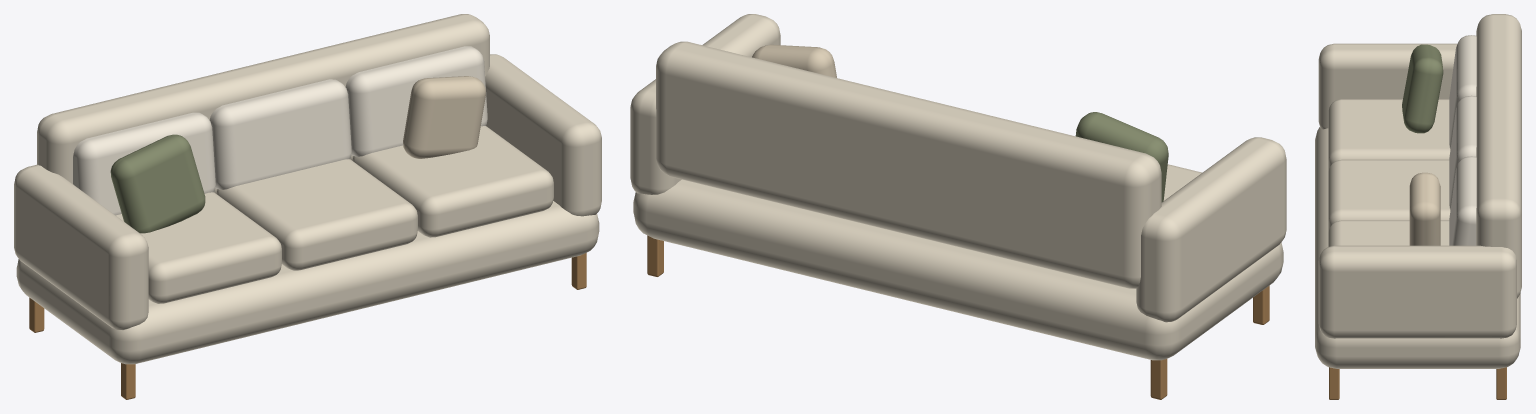
3 views of the same model, side by side, from view 1: azimuth 30°, elevation 25°; view 2: azimuth 150°, elevation 25°; view 3: azimuth 270°, elevation 25° (orthographic). The views are drawn at different scales.
Visible parts, largest first — view 1: Seat cushion (×3), Sofa upholstered base, Rounded arm (×2), Back cushion (×3), Soft back, Sage cushion, Woven cushion, Tapered leg (×2); view 2: Soft back, Sofa upholstered base, Rounded arm (×2), Sage cushion, Woven cushion, Tapered leg (×2), Seat cushion; view 3: Rounded arm (×2), Seat cushion (×3), Soft back, Sofa upholstered base, Back cushion (×3), Sage cushion, Woven cushion, Tapered leg (×2).
Part boxes in pixels (x1=…): Seat cushion (×3): x1=116, y1=126, x2=553, y2=303; Sofa upholstered base: x1=16, y1=201, x2=599, y2=364; Rounded arm (×2): x1=14, y1=54, x2=601, y2=329; Back cushion (×3): x1=73, y1=46, x2=487, y2=215; Soft back: x1=37, y1=14, x2=489, y2=193; Sage cushion: x1=110, y1=134, x2=205, y2=233; Woven cushion: x1=403, y1=76, x2=485, y2=158; Tapered leg (×2): x1=121, y1=253, x2=586, y2=399; Soft back: x1=656, y1=41, x2=1161, y2=288; Sofa upholstered base: x1=633, y1=179, x2=1283, y2=360; Rounded arm (×2): x1=630, y1=14, x2=1286, y2=322; Sage cushion: x1=1075, y1=112, x2=1168, y2=201; Woven cushion: x1=752, y1=44, x2=836, y2=77; Tapered leg (×2): x1=647, y1=235, x2=1167, y2=399; Seat cushion: x1=1163, y1=164, x2=1201, y2=200; Rounded arm (×2): x1=1318, y1=43, x2=1516, y2=338; Seat cushion (×3): x1=1328, y1=99, x2=1450, y2=246; Soft back: x1=1476, y1=14, x2=1521, y2=298; Sofa upholstered base: x1=1315, y1=127, x2=1520, y2=368; Back cushion (×3): x1=1449, y1=35, x2=1476, y2=245; Sage cushion: x1=1402, y1=44, x2=1443, y2=133; Woven cushion: x1=1409, y1=172, x2=1440, y2=245; Tapered leg (×2): x1=1329, y1=367, x2=1506, y2=399.
Size of the model in its own units: 2.17 by 0.88 by 0.865.
